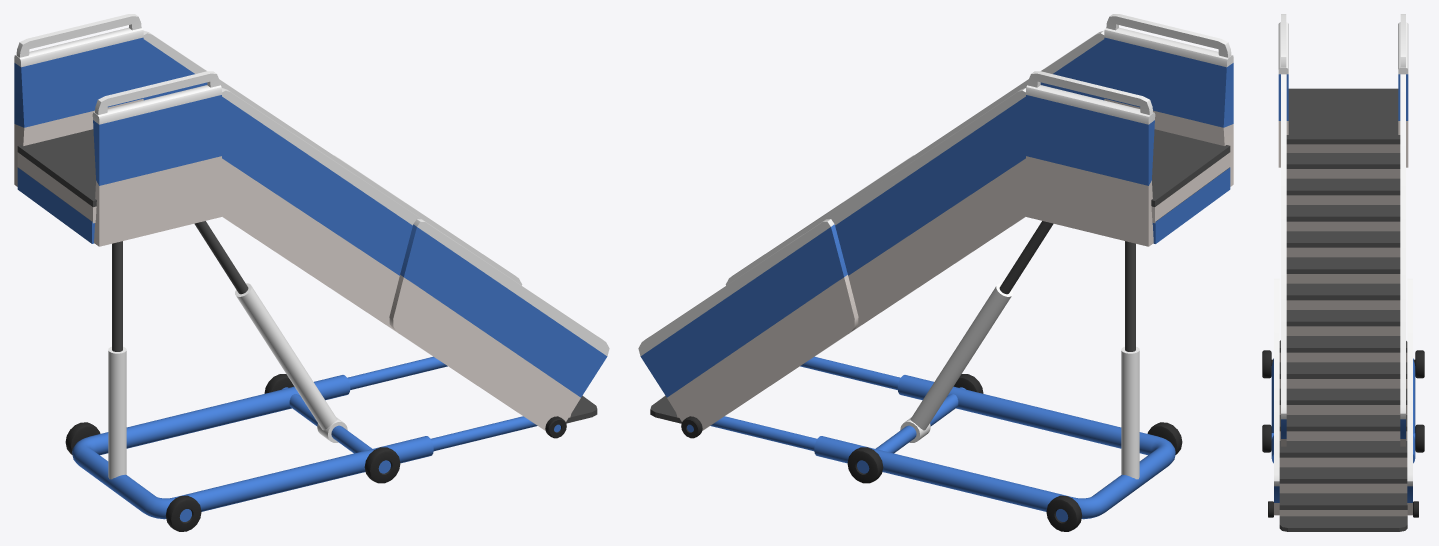
The model's file is 03_AirplaneStairs_AIRPORT_0.obj.
3 renders of one model, left to right at view 1: azimuth 30°, elevation 25°; view 2: azimuth 150°, elevation 25°; view 3: azimuth 270°, elevation 25°, orthographic. The views are drawn at different scales.
Visible parts, largest first — view 1: 03.AirplaneStairs_AIRPORT_0; view 2: 03.AirplaneStairs_AIRPORT_0; view 3: 03.AirplaneStairs_AIRPORT_0.
Boxes of the visible parts, box(x1,y1,x2,y2) form: 03.AirplaneStairs_AIRPORT_0: box(14, 14, 609, 531); 03.AirplaneStairs_AIRPORT_0: box(638, 14, 1233, 531); 03.AirplaneStairs_AIRPORT_0: box(1262, 14, 1424, 531).
Bounding box in the file's own units: 9.61 × 7.96 × 3.47.
Materials: 1 (1 with a texture image).
